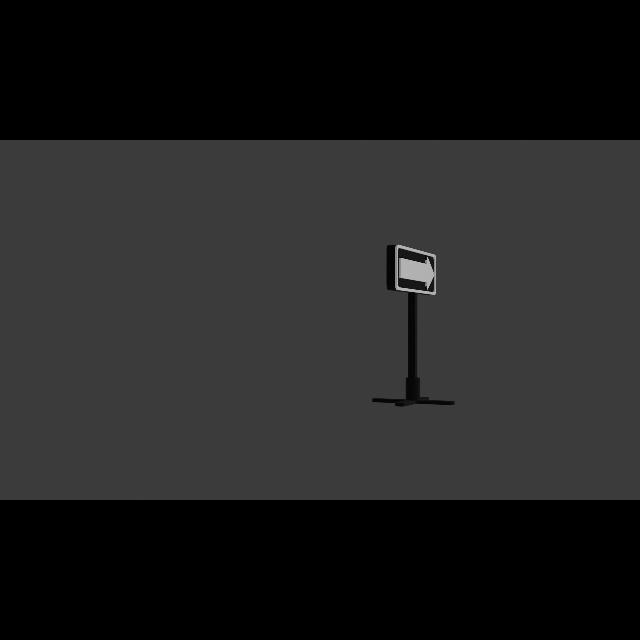sign_oneway_right: (389, 244, 440, 296)
